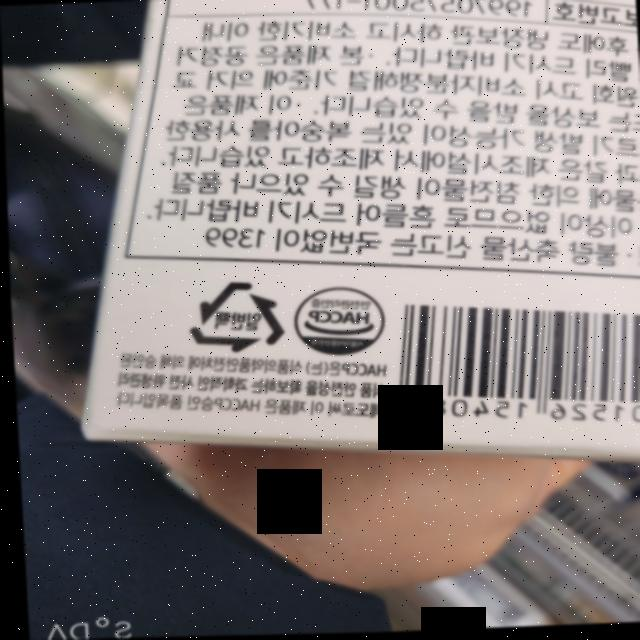NormalPack: (184, 278, 284, 355)
